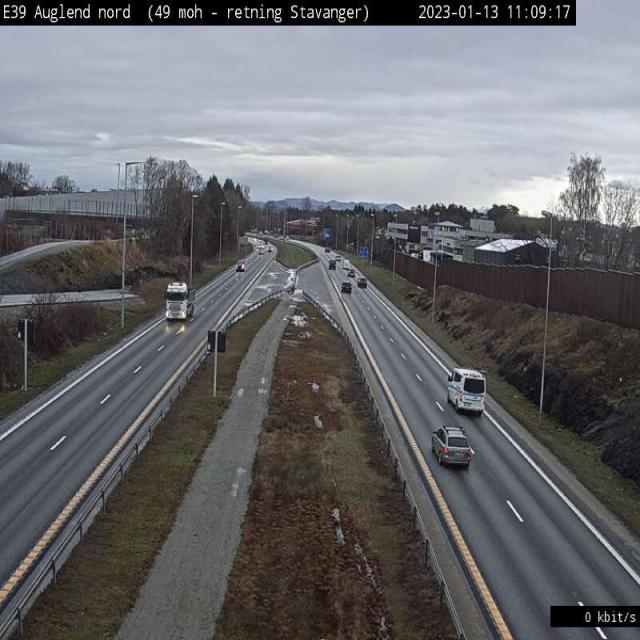vehicle: (446, 367, 486, 418), (446, 368, 486, 418), (430, 426, 474, 468)
